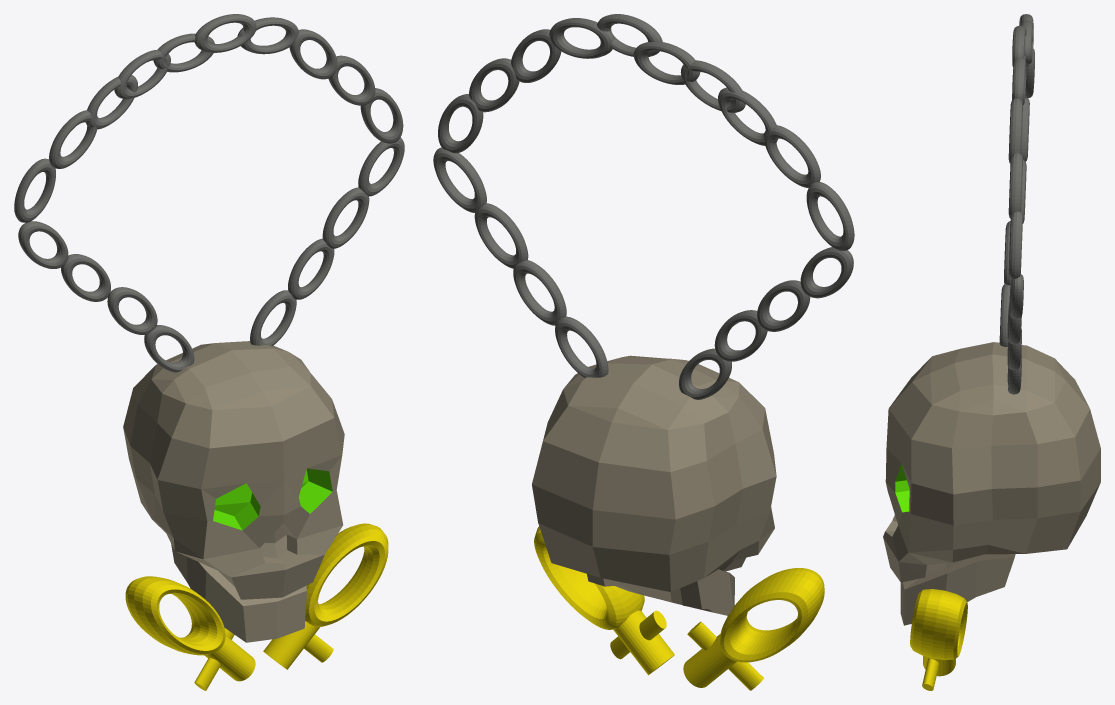
The model's file is necklace.glb.
3 renders of one model, left to right at view 1: azimuth 30°, elevation 25°; view 2: azimuth 150°, elevation 25°; view 3: azimuth 270°, elevation 25°, orthographic. The views are drawn at different scales.
Parts seen in each view (by area): view 1: Skull, Torus.001, Torus, Torus.006, Torus.012, Torus.010, Torus.011, Torus.018, Torus.013, Torus.007, Torus.005, Torus.003 (+11 smaller); view 2: Skull, Torus, Torus.001, Cylinder.003, Torus.006, Torus.010, Torus.013, Torus.007, Torus.011, Torus.012, Torus.017, Cylinder (+11 smaller); view 3: Skull, Torus.001, Torus.014, Torus.015, Torus.016, Torus.017, Torus.013, Torus.002, Torus.018, Torus.005, Torus.010, Torus.012 (+4 smaller).
Part boxes in pixels (left/top/right/bottom): Skull: left=123, top=341, right=344, bottom=642; Torus.001: left=305, top=523, right=388, bottom=627; Torus: left=125, top=576, right=225, bottom=655; Torus.006: left=14, top=158, right=55, bottom=222; Torus.012: left=322, top=187, right=369, bottom=248; Torus.010: left=288, top=238, right=334, bottom=299; Torus.011: left=250, top=290, right=296, bottom=345; Torus.018: left=194, top=14, right=256, bottom=52; Torus.013: left=358, top=137, right=404, bottom=196; Torus.007: left=49, top=110, right=97, bottom=168; Torus.005: left=18, top=221, right=68, bottom=268; Torus.003: left=107, top=287, right=157, bottom=334; Skull: left=532, top=355, right=776, bottom=615; Torus: left=720, top=568, right=824, bottom=662; Torus.001: left=534, top=526, right=644, bottom=629; Cylinder.003: left=613, top=610, right=674, bottom=675; Torus.006: left=806, top=182, right=854, bottom=250; Torus.010: left=513, top=260, right=566, bottom=325; Torus.013: left=433, top=147, right=486, bottom=212; Torus.007: left=764, top=125, right=820, bottom=187; Torus.011: left=555, top=316, right=608, bottom=377; Torus.012: left=474, top=203, right=528, bottom=268; Torus.017: left=549, top=18, right=614, bottom=58; Cylinder: left=683, top=634, right=736, bottom=687; Skull: left=883, top=342, right=1100, bottom=625; Torus.001: left=910, top=589, right=967, bottom=660; Torus.014: left=1008, top=211, right=1022, bottom=279; Torus.015: left=1008, top=152, right=1022, bottom=218; Torus.016: left=1008, top=98, right=1022, bottom=163; Torus.017: left=1012, top=58, right=1026, bottom=104; Torus.013: left=1009, top=274, right=1023, bottom=318; Torus.002: left=999, top=284, right=1010, bottom=346; Torus.018: left=1012, top=25, right=1026, bottom=67; Torus.005: left=1021, top=98, right=1029, bottom=161; Torus.010: left=1007, top=328, right=1021, bottom=370; Torus.012: left=1007, top=302, right=1021, bottom=344.
Size of the model in its own units: 1.2 by 1.87 by 0.58.
